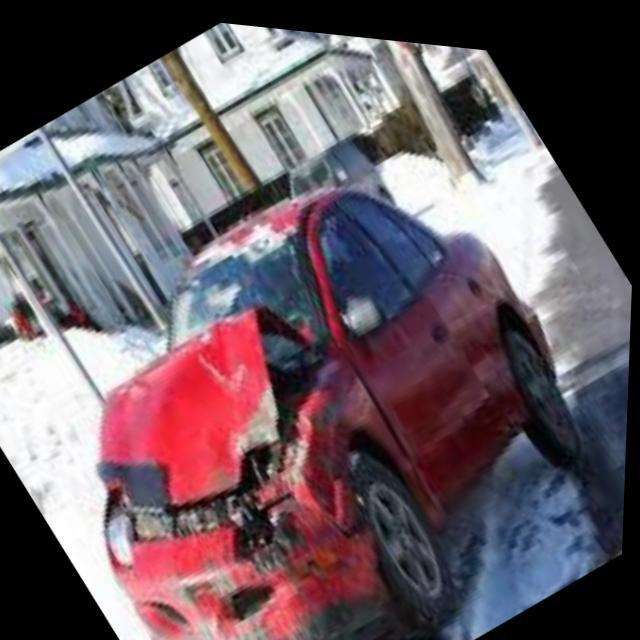dislocated part: (100, 302, 457, 640)
